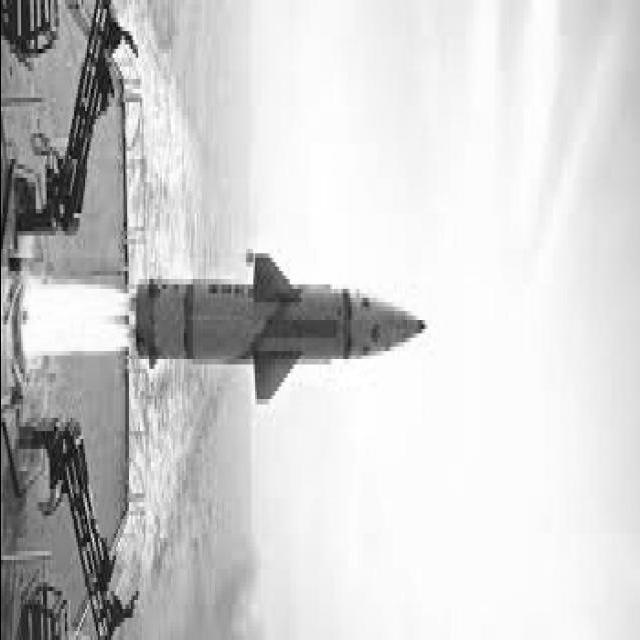Missile: (119, 270, 446, 376)
